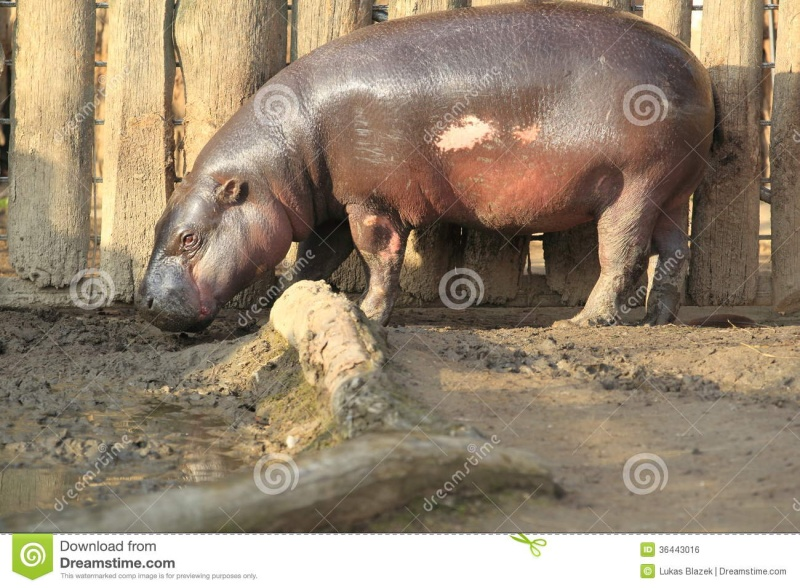hipopotamo: (134, 7, 718, 340)
